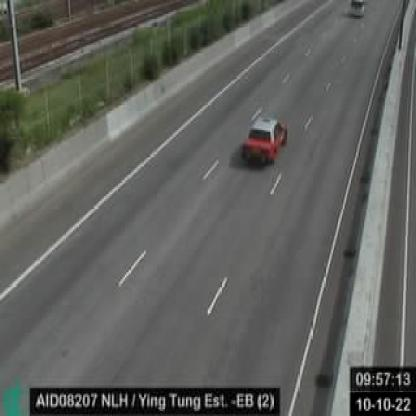Car: (241, 114, 287, 167), (349, 2, 367, 18)
